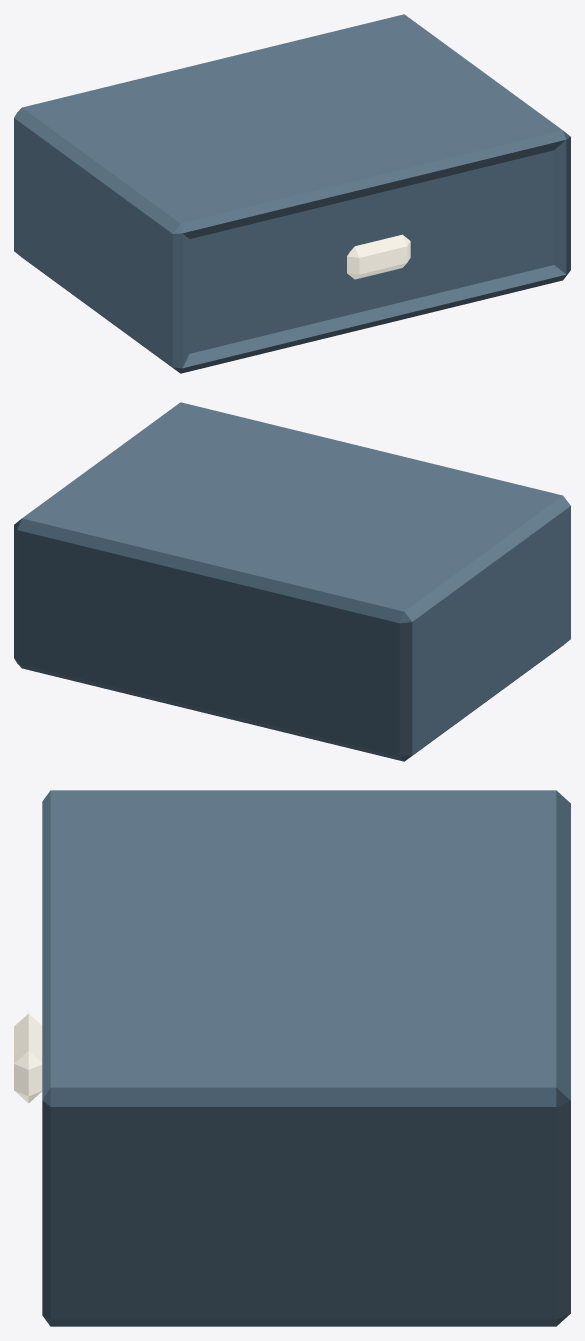
Rendered from Door_LintelLit.gltf.
The picture shows the model from 3 angles, top to bottom: view 1: azimuth 30°, elevation 25°; view 2: azimuth 150°, elevation 25°; view 3: azimuth 270°, elevation 25°; orthographic projection. The views are drawn at different scales.
Visible parts, largest first — view 1: Door_LintelLit_baked; view 2: Door_LintelLit_baked; view 3: Door_LintelLit_baked.
Part boxes in pixels (x1=…): Door_LintelLit_baked: x1=14, y1=14, x2=570, y2=373; Door_LintelLit_baked: x1=14, y1=402, x2=570, y2=761; Door_LintelLit_baked: x1=14, y1=790, x2=570, y2=1326.
Size of the model in its own units: 1 by 0.36 by 0.76.
